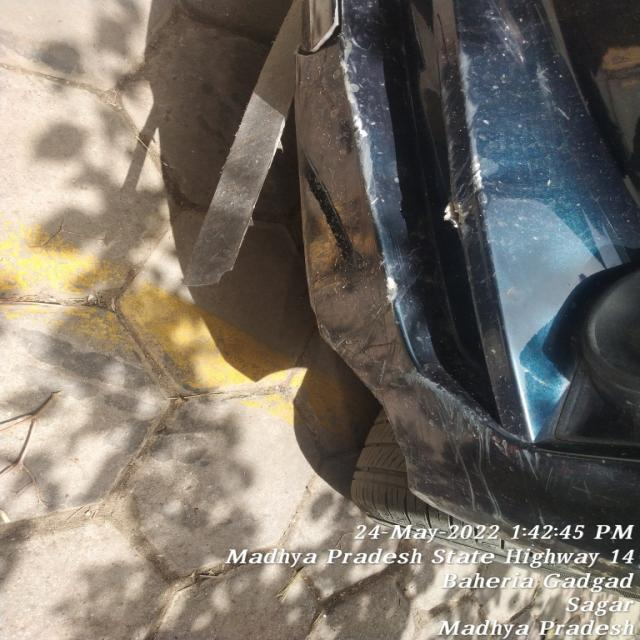damage: (197, 65, 357, 310), (417, 172, 505, 253)
